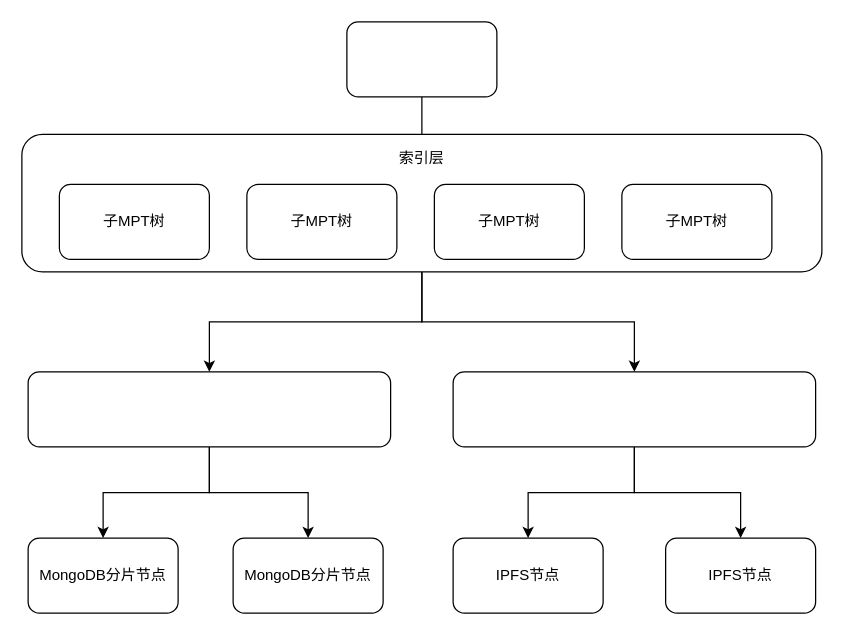
The diagram is 844 pixels wide and 635 high, and some of its shapes have lost their labels. The shapes that lost their labels are listed below. From the top down, each one's centre as x and y in pixels, then its label:
point (421, 59): 数据系统抽象接口
point (209, 409): MongoDB引擎
point (634, 409): IPFS引擎
